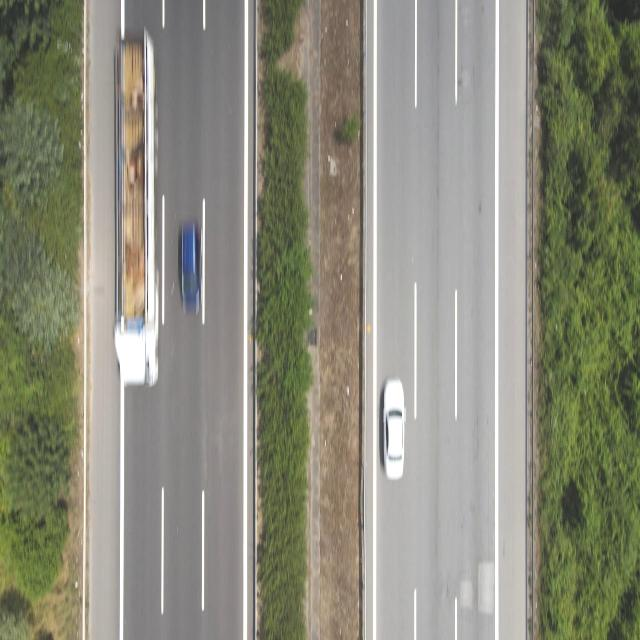Car: (376, 364, 415, 483), (173, 214, 204, 323)
Truck: (111, 9, 166, 392)
